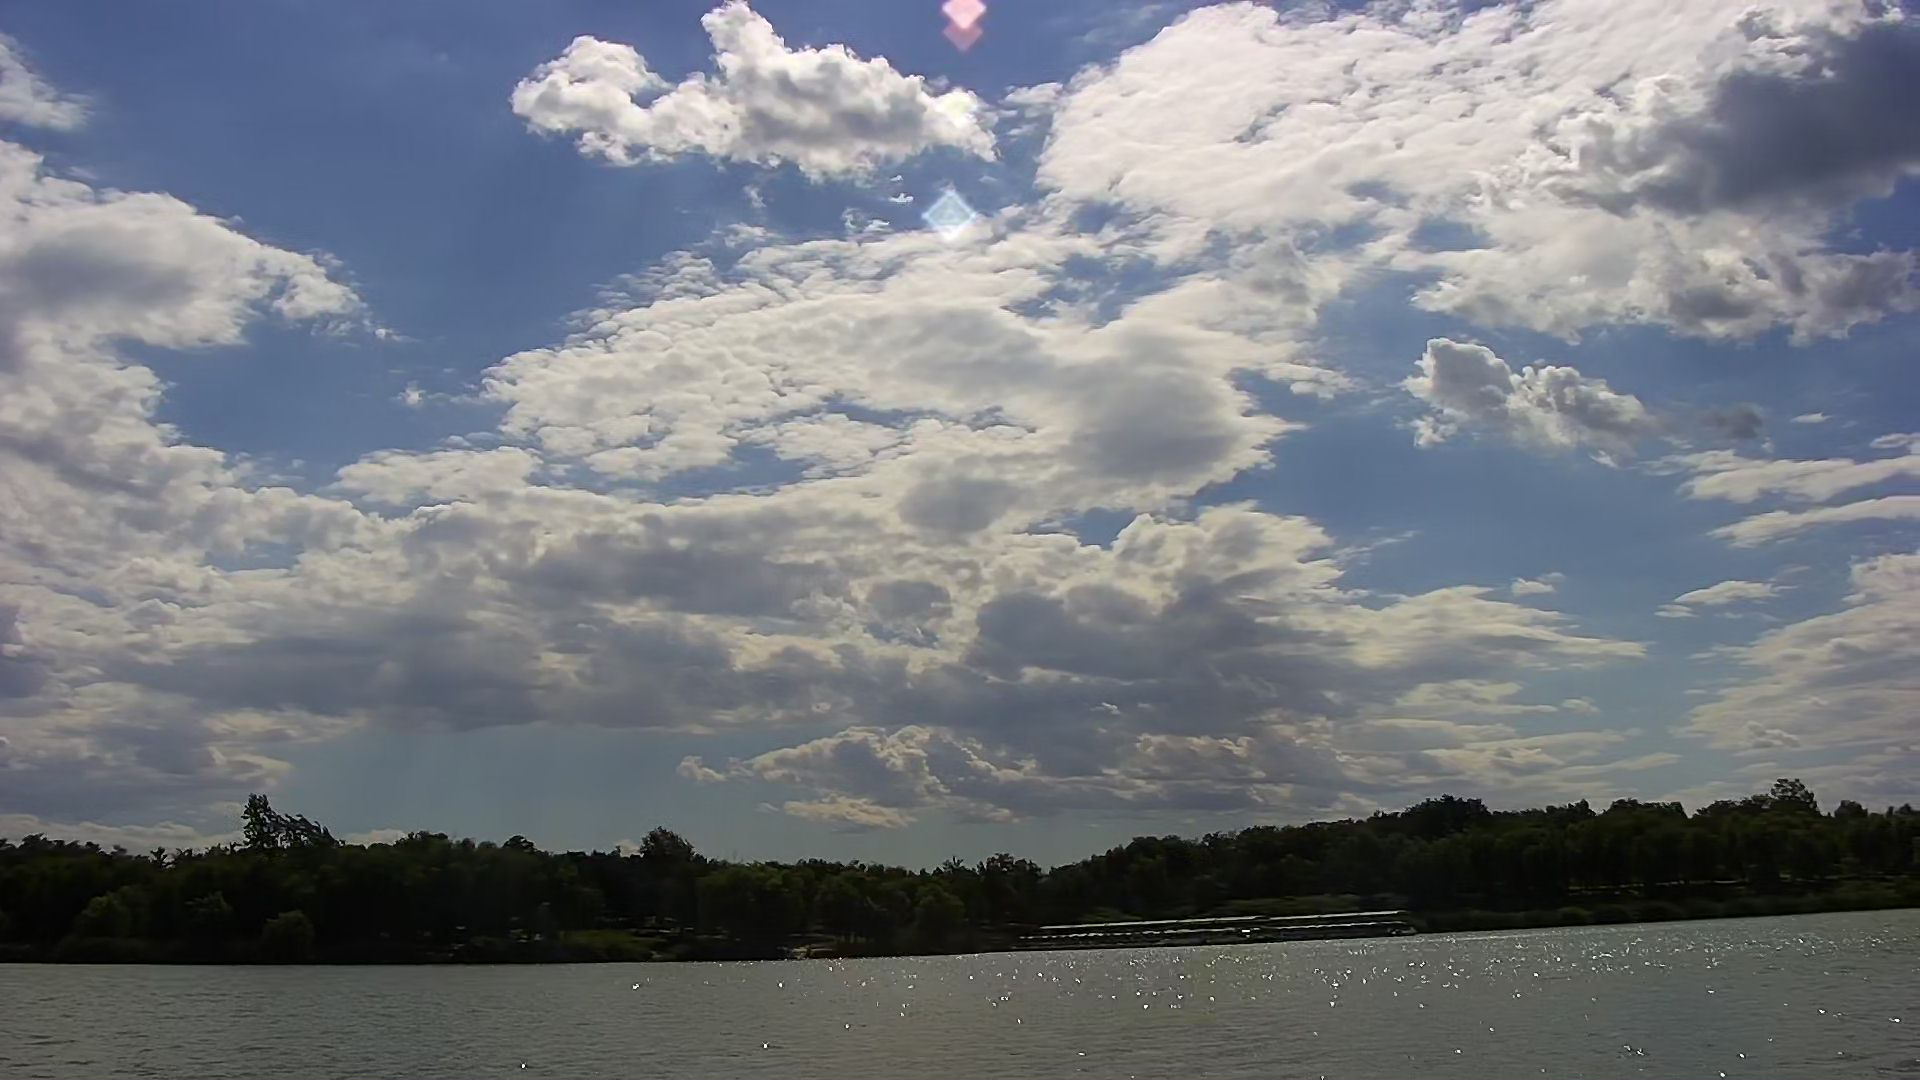harbor: (993, 901, 1423, 957)
